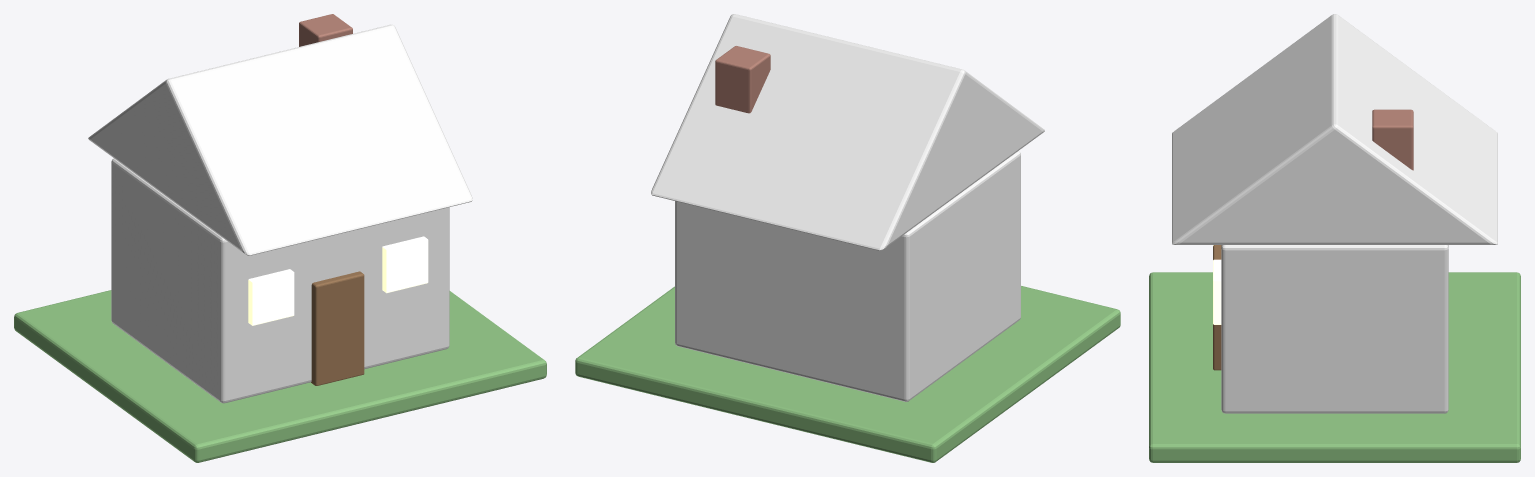
File: cat-city.glb
3 renders of one model, left to right at view 1: azimuth 30°, elevation 25°; view 2: azimuth 150°, elevation 25°; view 3: azimuth 270°, elevation 25°, orthographic. The views are drawn at different scales.
Visible parts, largest first — view 1: poly, Cube, Cube.005, Cube.002, Cube.003, Cube.004, Cube.001; view 2: poly, Cube, Cube.005, Cube.001; view 3: poly, Cube, Cube.005, Cube.001, Cube.004, Cube.002.
Part boxes in pixels (x1,y1,x2,y2): poly: [88, 24, 472, 255]; Cube: [111, 158, 449, 403]; Cube.005: [14, 290, 546, 462]; Cube.002: [311, 271, 364, 385]; Cube.003: [248, 269, 294, 325]; Cube.004: [382, 236, 428, 293]; Cube.001: [299, 14, 352, 46]; poly: [651, 14, 1044, 250]; Cube: [675, 151, 1020, 401]; Cube.005: [575, 286, 1120, 462]; Cube.001: [715, 46, 770, 113]; poly: [1172, 14, 1497, 244]; Cube: [1221, 245, 1448, 413]; Cube.005: [1149, 272, 1520, 462]; Cube.001: [1372, 109, 1413, 170]; Cube.004: [1213, 259, 1221, 324]; Cube.002: [1213, 245, 1221, 370].
Bounding box in the file's own units: 1.33 × 1.09 × 1.2.
